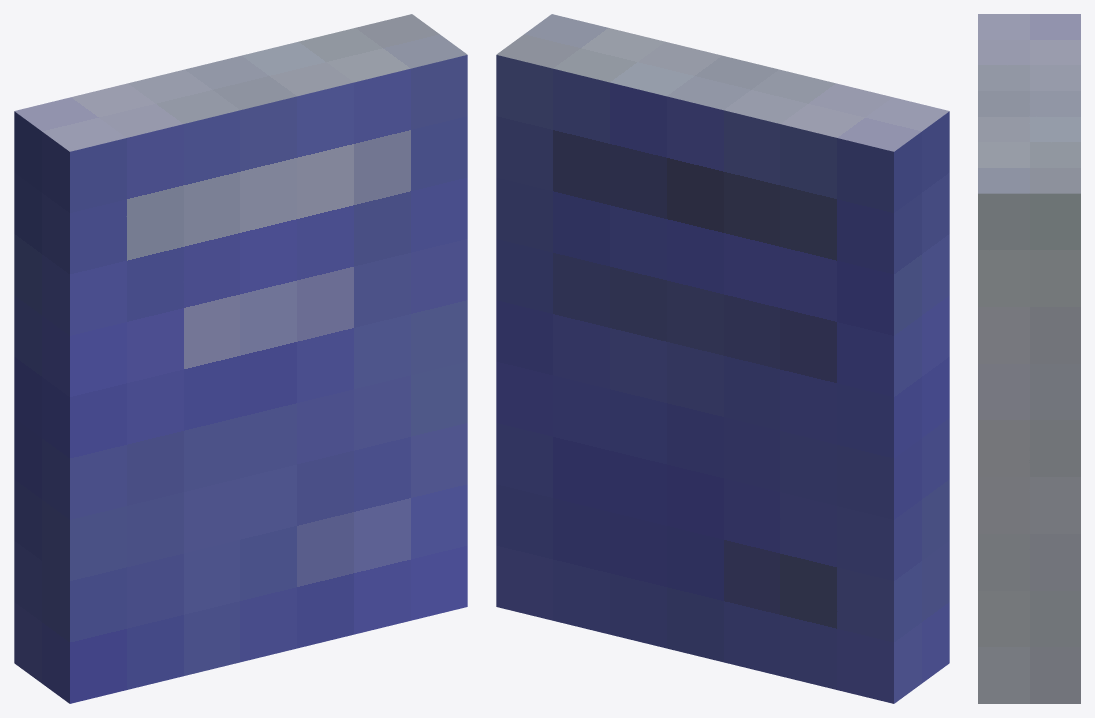
Rendered from Book02.glb.
3 renders of one model, left to right at view 1: azimuth 30°, elevation 25°; view 2: azimuth 150°, elevation 25°; view 3: azimuth 270°, elevation 25°, orthographic. The views are drawn at different scales.
Parts seen in each view (by area): view 1: Book02; view 2: Book02; view 3: Book02.
Boxes of the visible parts, x1,y1,x2,y2 form: Book02: [14, 14, 467, 703]; Book02: [496, 14, 949, 703]; Book02: [978, 14, 1080, 703].
Size of the model in its own units: 0.264 by 0.35 by 0.064.
1 material, 1 textured.
